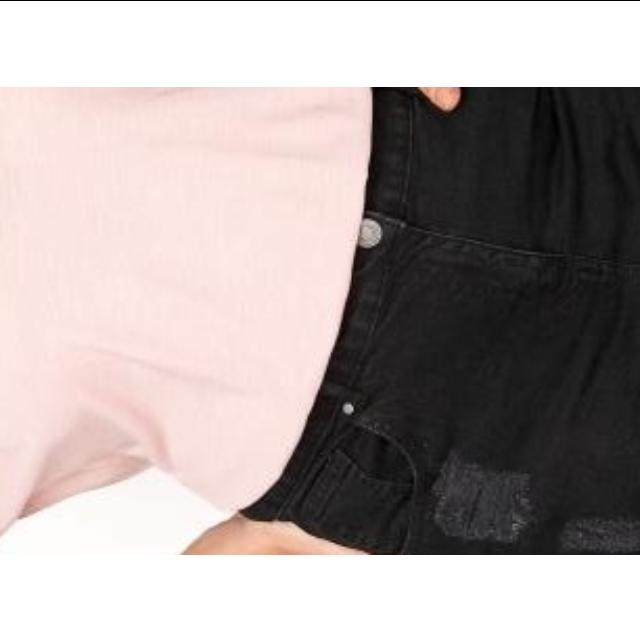denim: (348, 86, 640, 554)
